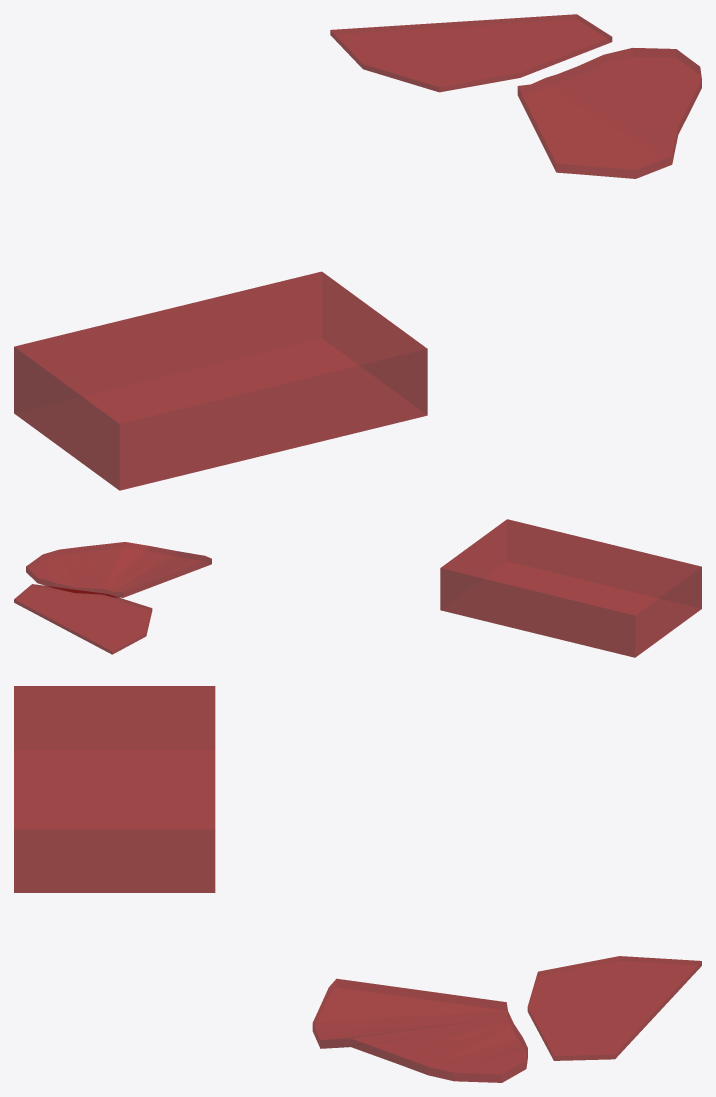
The model's file is _death.obj.
The picture shows the model from 3 angles, top to bottom: view 1: azimuth 30°, elevation 25°; view 2: azimuth 150°, elevation 25°; view 3: azimuth 270°, elevation 25°; orthographic projection. The views are drawn at different scales.
Size of the model in its own units: 497 by 39.03 by 382.
